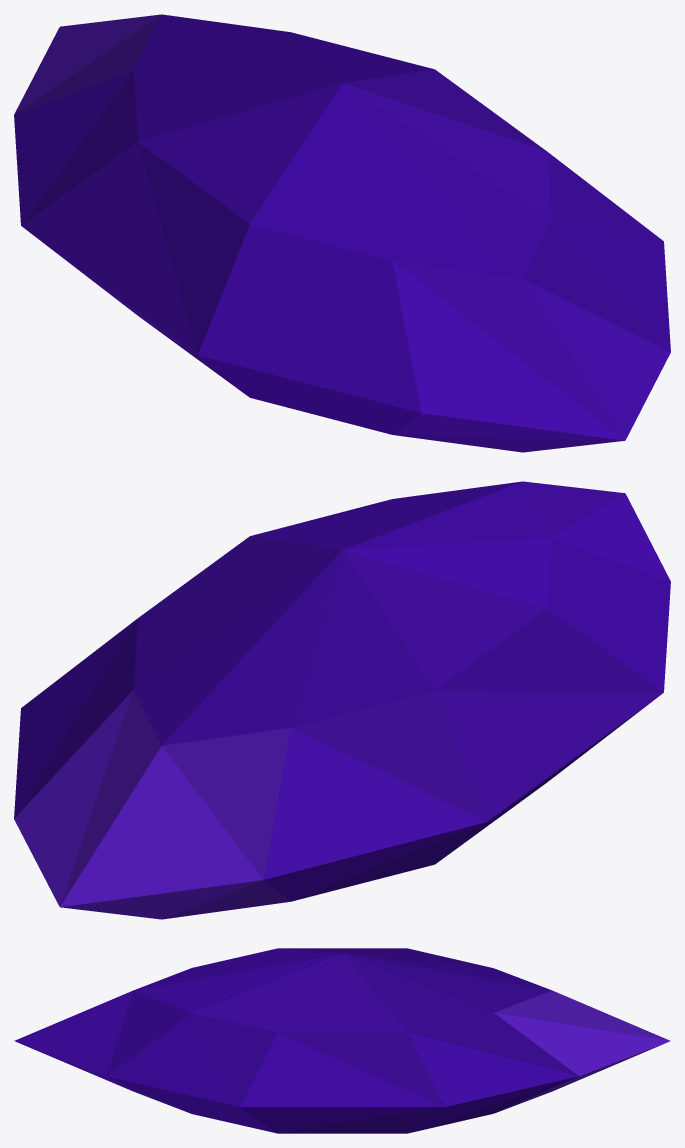
File: prop_treasure_gem_amethyst_3.fbx
3 views of the same model, one above another, from view 1: azimuth 30°, elevation 25°; view 2: azimuth 150°, elevation 25°; view 3: azimuth 270°, elevation 25° (orthographic). The views are drawn at different scales.
Parts seen in each view (by area): view 1: prop_treasure_gem_amethyst_3; view 2: prop_treasure_gem_amethyst_3; view 3: prop_treasure_gem_amethyst_3.
Boxes of the visible parts, box(x1,y1,x2,y2) form: prop_treasure_gem_amethyst_3: box(14, 14, 670, 452); prop_treasure_gem_amethyst_3: box(14, 481, 670, 919); prop_treasure_gem_amethyst_3: box(14, 948, 670, 1133).
Bounding box in the file's own units: 0.2791 × 0.1719 × 0.5865.
